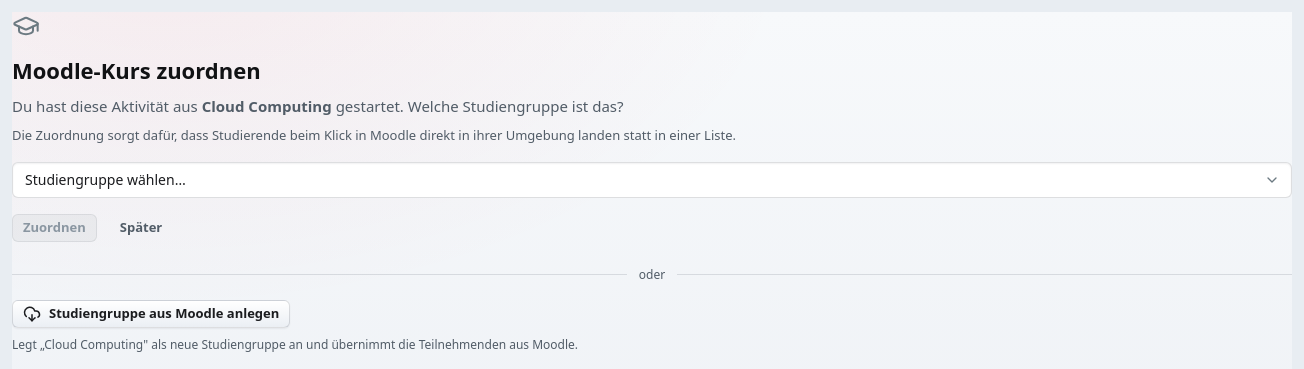
LtiCourseMapView — Studiengruppe aus Moodle anlegen › names every member it left alone, and why
Click the button with test id "map-import" at (151, 314), box [12,300,290,328]
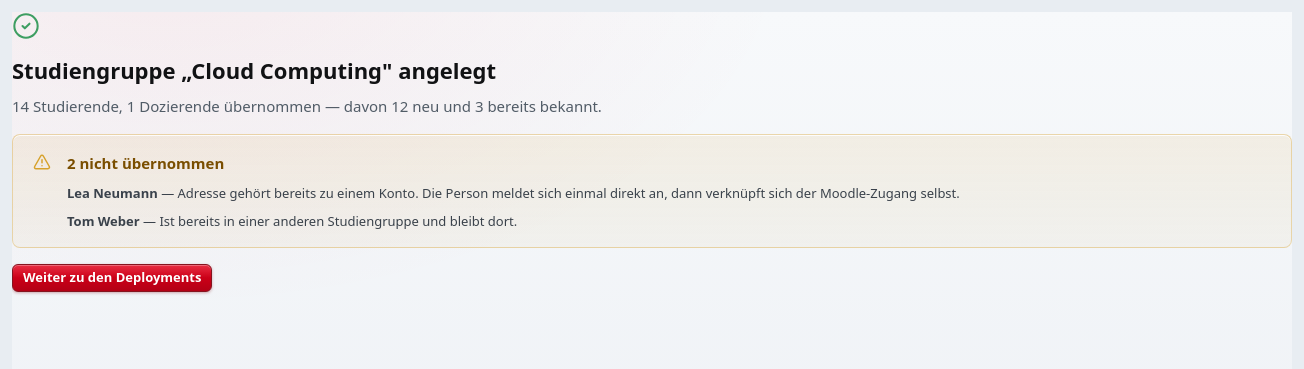
Now the element with test id "import-skipped" is shown, box [12,134,1292,248]
Now the element with test id "import-skipped" shows "Lea Neumann", box [67,184,158,202]
Now the element with test id "import-skipped" shows "direkt an", box [158,184,960,202]
